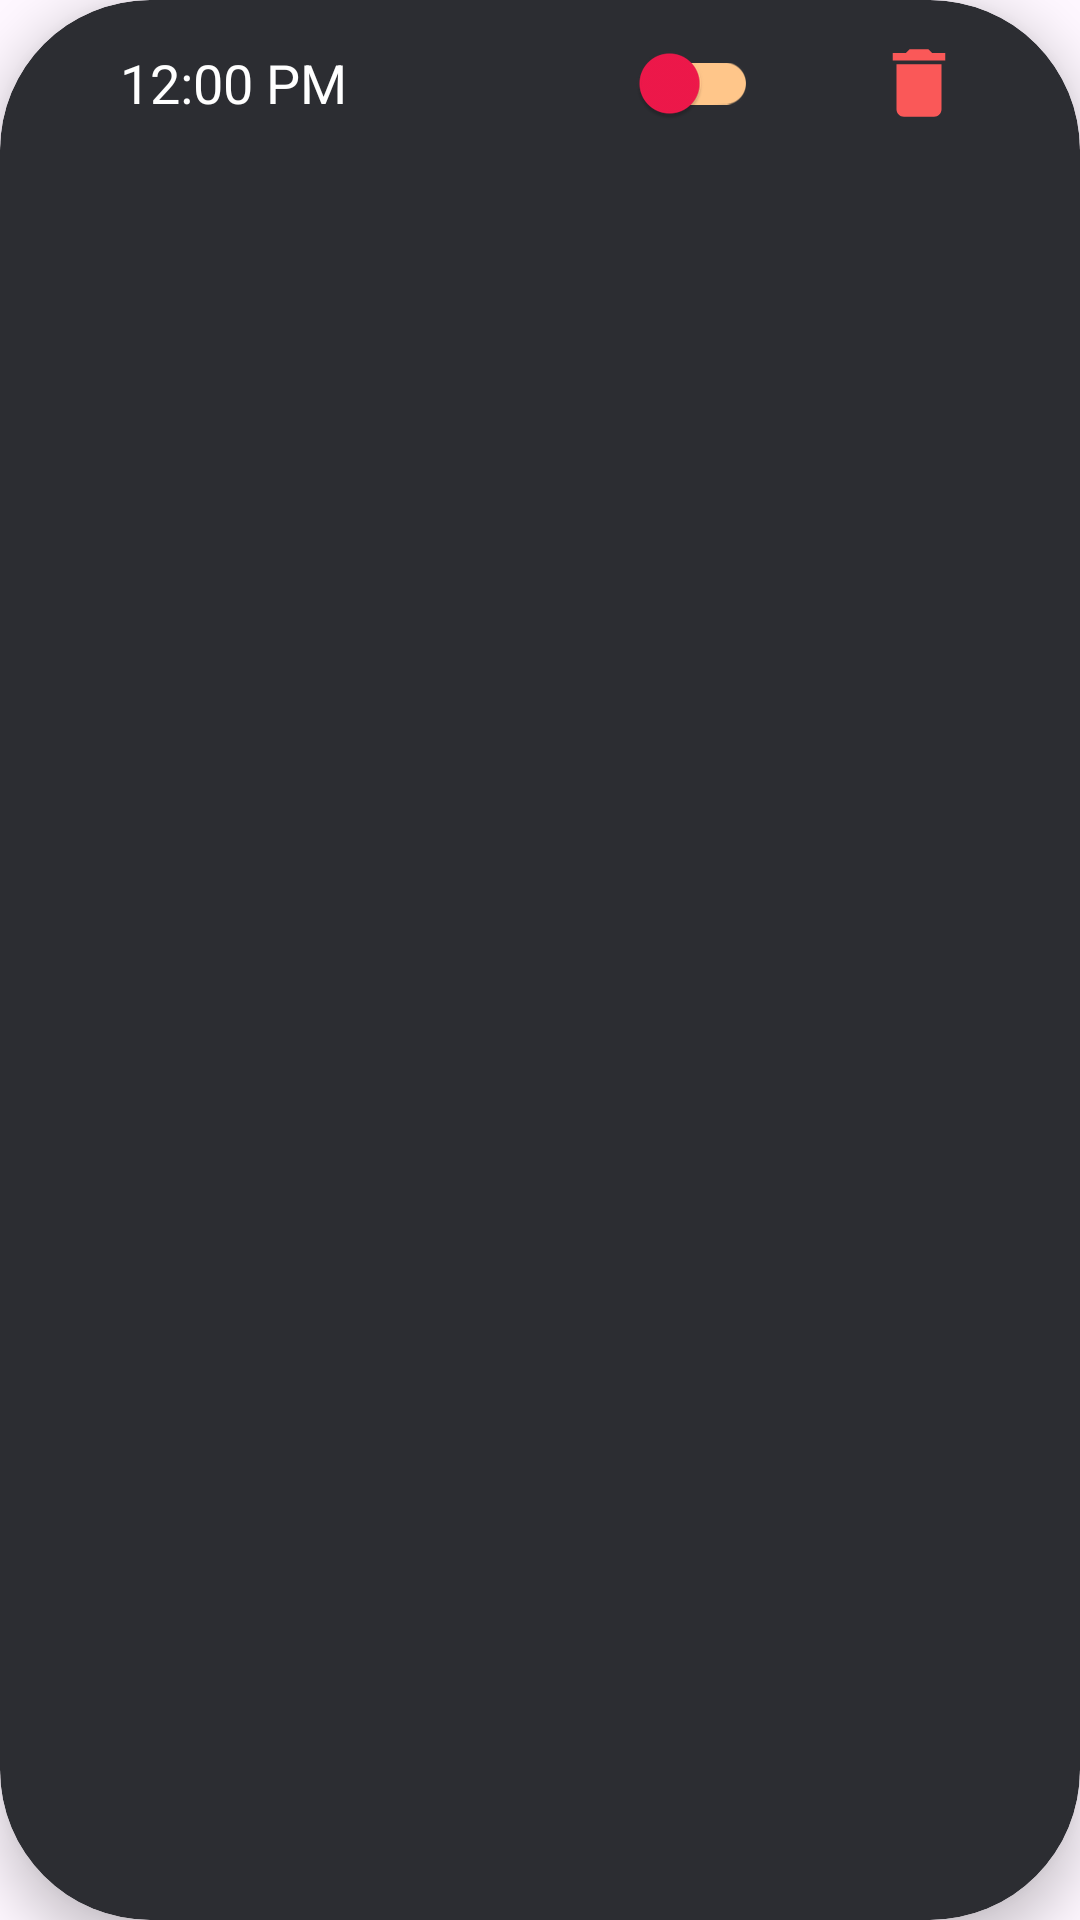

Locate icon controls on the screen. Image size 1080 × 1920, boxes as (x1, y1, x2, y2).
delete: (892, 49, 946, 117)
